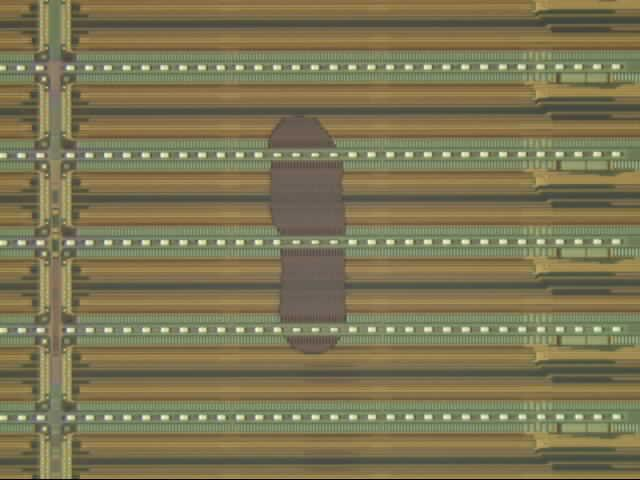BLOCK ETCH: (266, 110, 352, 361)
